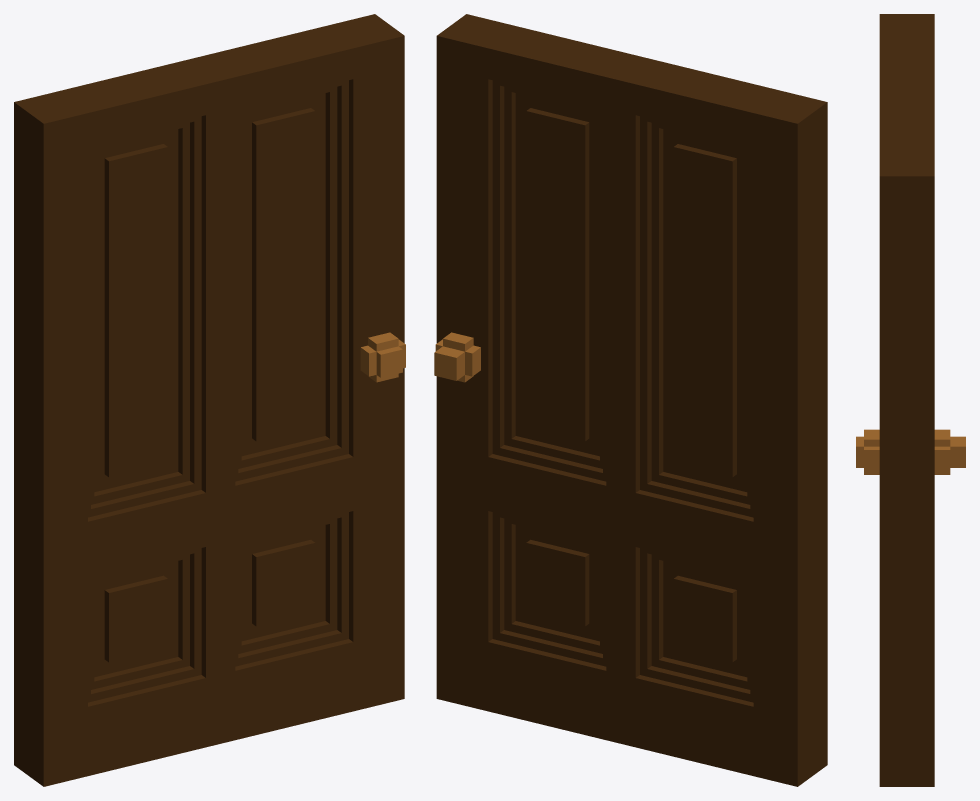
File: Porte.obj
3 renders of one model, left to right at view 1: azimuth 30°, elevation 25°; view 2: azimuth 150°, elevation 25°; view 3: azimuth 270°, elevation 25°, orthographic. The views are drawn at different scales.
Visible parts, largest first — view 1: Porte; view 2: Porte; view 3: Porte.
Part boxes in pixels (x1,y1,x2,y2): Porte: [14, 14, 405, 786]; Porte: [434, 14, 827, 786]; Porte: [856, 14, 965, 786].
Size of the model in its own units: 49 by 86 by 14.
1 material, 1 textured.
